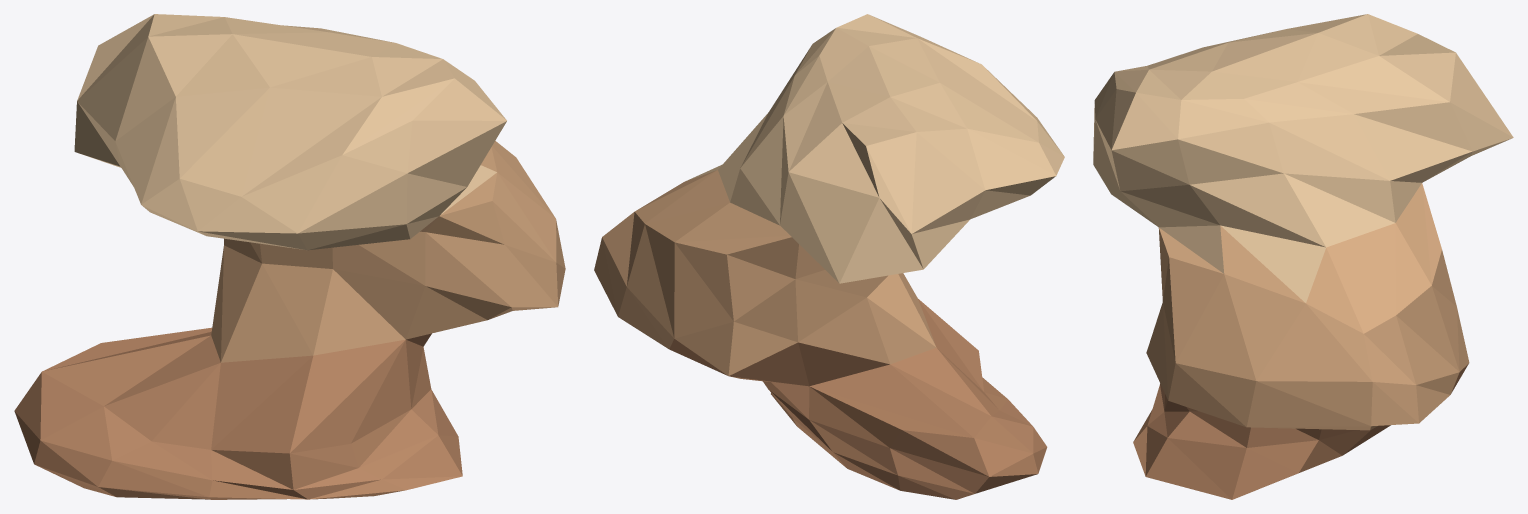
File: canyon-5-0.glb
3 views of the same model, side by side, from view 1: azimuth 30°, elevation 25°; view 2: azimuth 150°, elevation 25°; view 3: azimuth 270°, elevation 25° (orthographic). The views are drawn at different scales.
Visible parts, largest first — view 1: canyon-5-0; view 2: canyon-5-0; view 3: canyon-5-0.
Part boxes in pixels (x1,y1,x2,y2): canyon-5-0: (14,14,565,499); canyon-5-0: (594,14,1064,499); canyon-5-0: (1093,14,1513,499).
Bounding box in the file's own units: 29.79 × 24 × 22.77.
